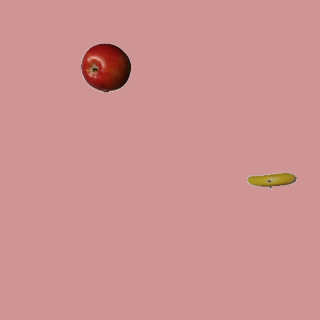Apple Braeburn: (80, 42, 130, 92)
Banana: (246, 155, 296, 205)
